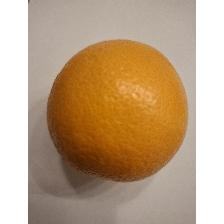Orange: (43, 37, 190, 186)
